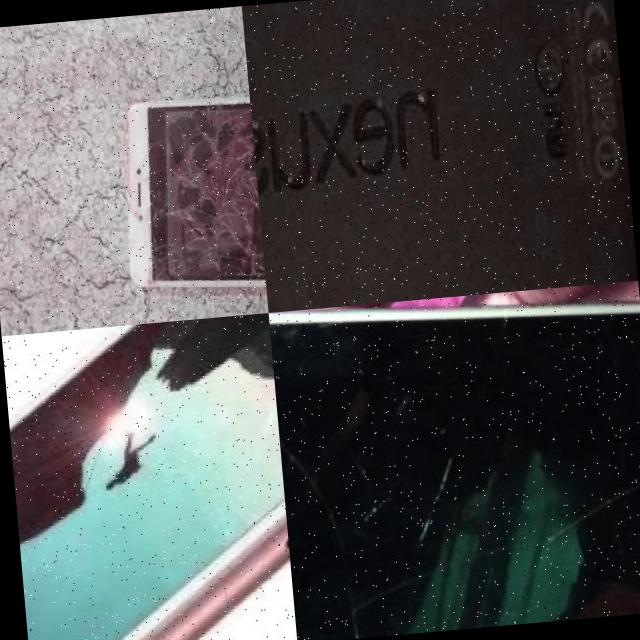scratch: (378, 442, 478, 587)
screen crack: (120, 92, 266, 304), (591, 439, 640, 616)
